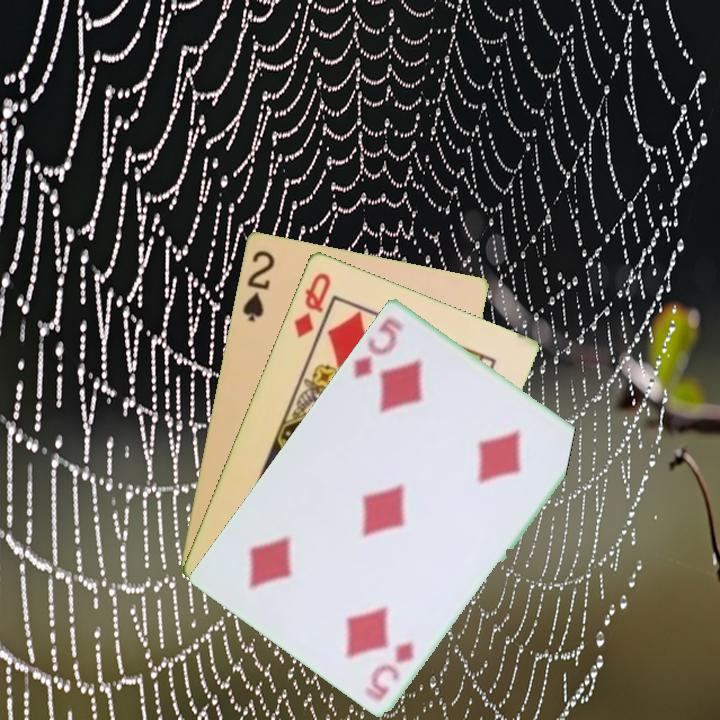2s: (238, 246, 277, 325)
5d: (350, 313, 407, 381), (362, 637, 417, 704)
Qd: (290, 268, 334, 341)
